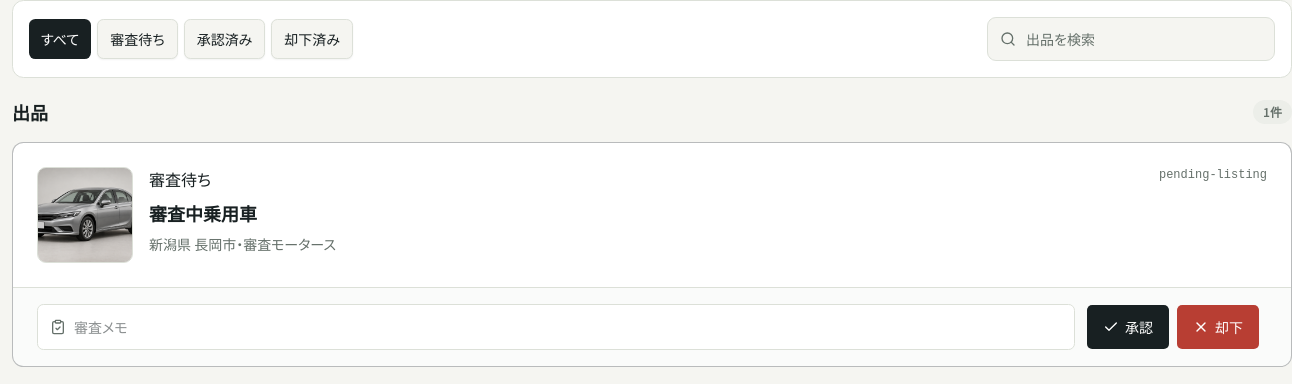
Test: AdminQueue › approves a listing with an optional note
Type "掲載可" into the field labelled "メモ".
click(568, 327); type("掲載可")  # box [74, 305, 1062, 349]
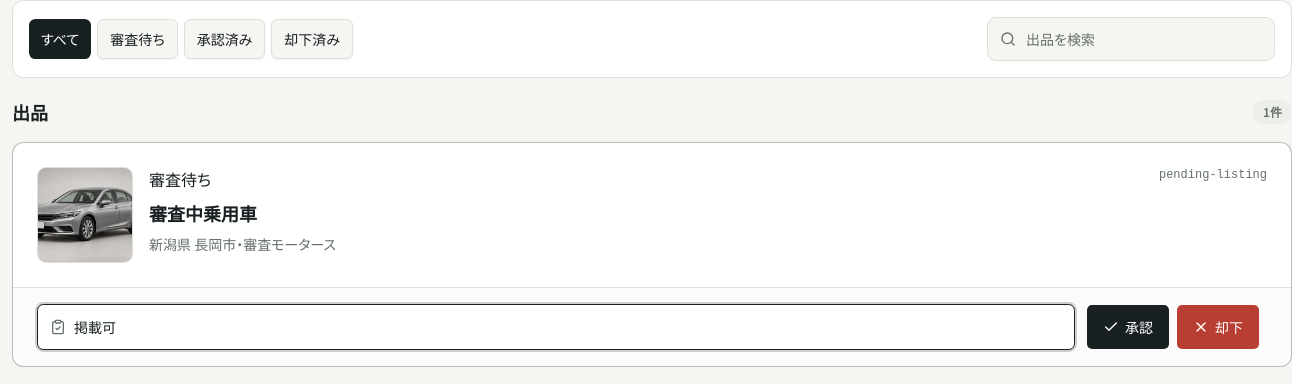
Click the button "承認".
click(1128, 327)  # box [1087, 305, 1169, 349]
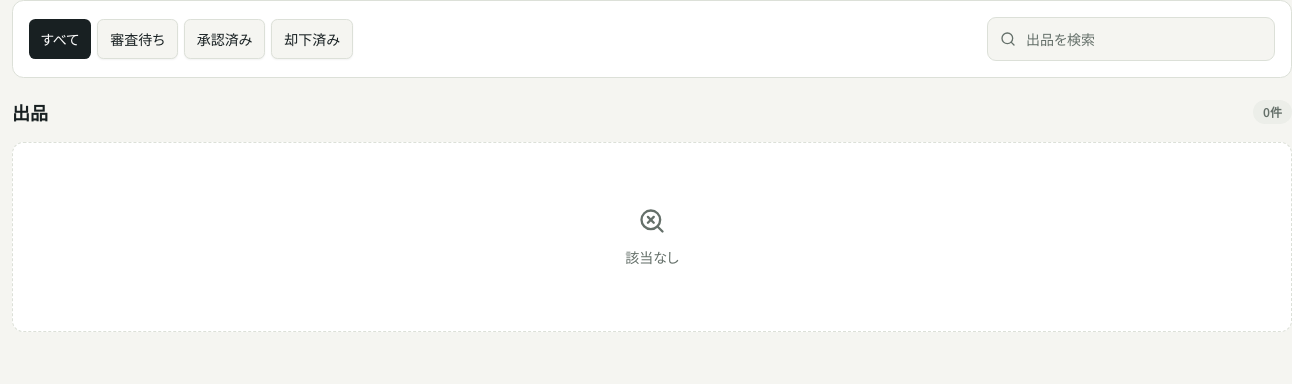
Expected: the text "該当なし" is shown, [625, 247, 679, 267]
Expected: the heading "審査中乗用車" is gone
